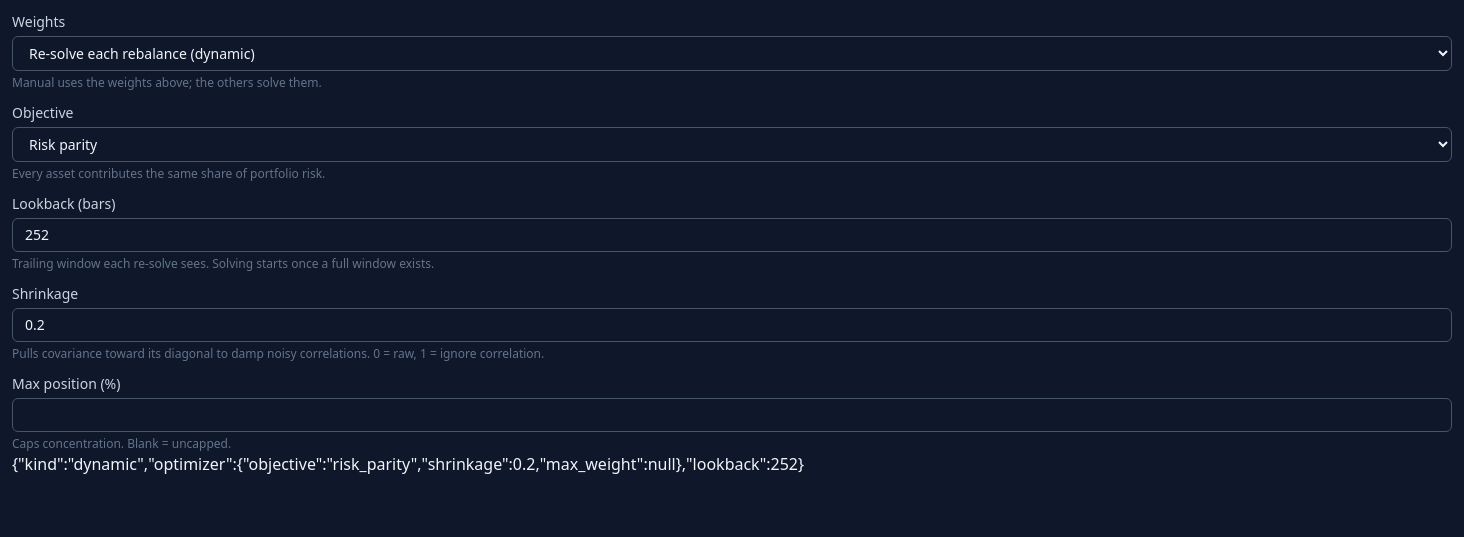
Scenario: WeightPolicyControls › warns that max Sharpe leans on noisy mean returns
Expected: the text "noisier to estimate" is not shown
Select "Maximum Sharpe" in the dropdown labelled "Objective" at [732, 144], box [12,127,1452,162]
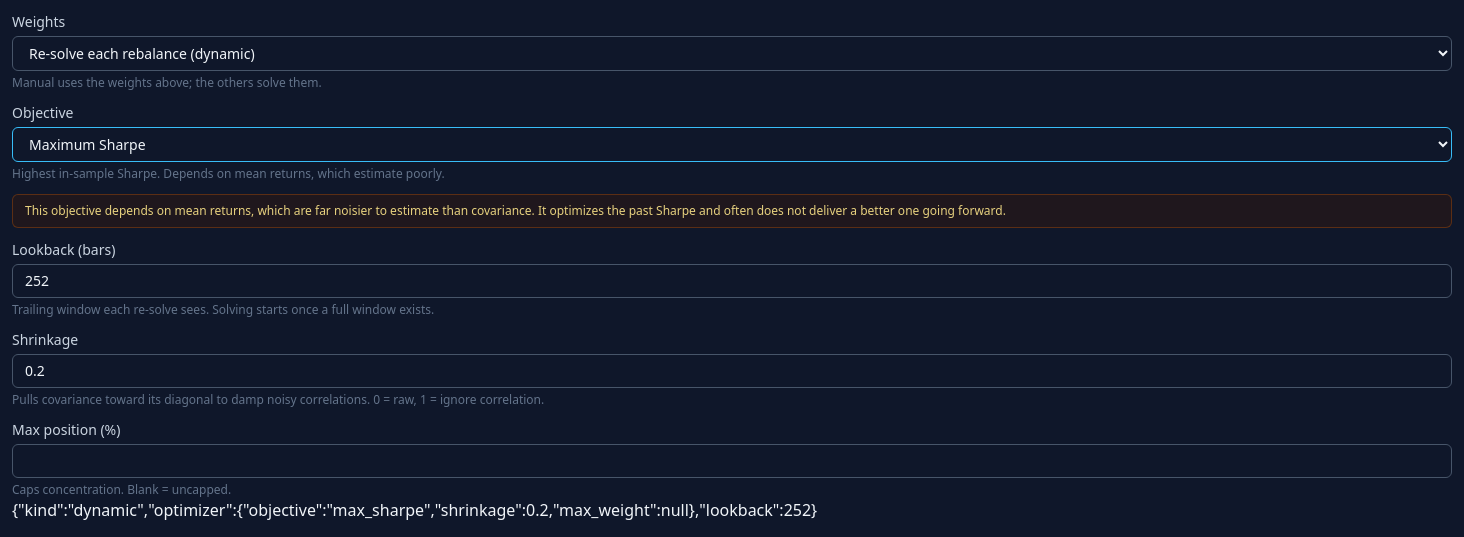
Expected: the text "noisier to estimate" is shown, [25,202,1006,219]
